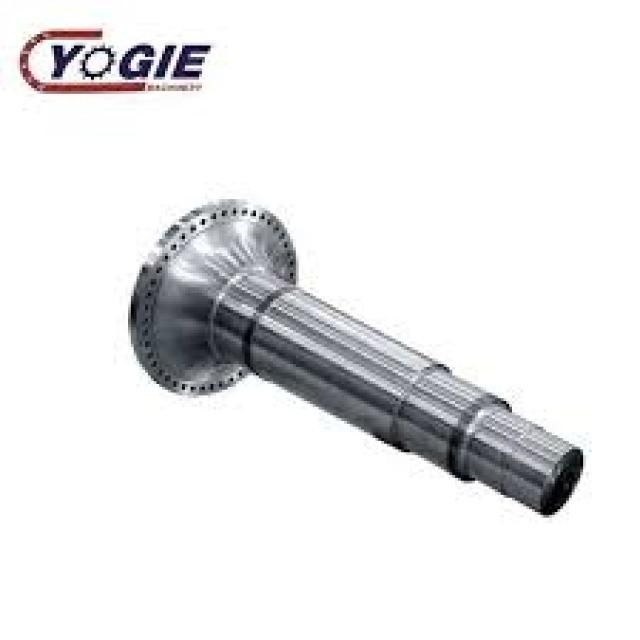Turning: (95, 180, 616, 558)
